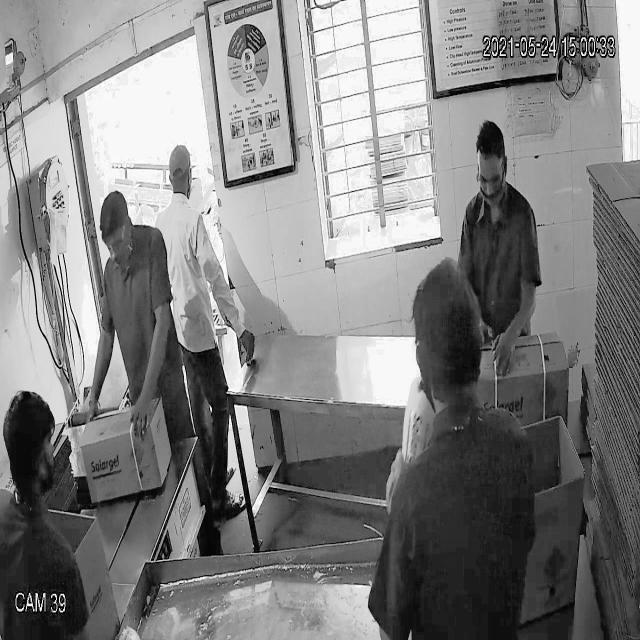glasses: (96, 226, 131, 260)
